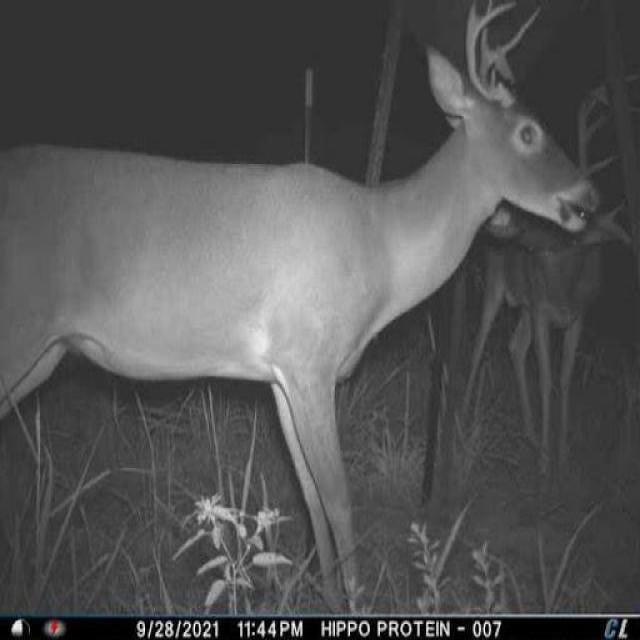deer: (0, 0, 601, 605), (448, 67, 638, 494)
